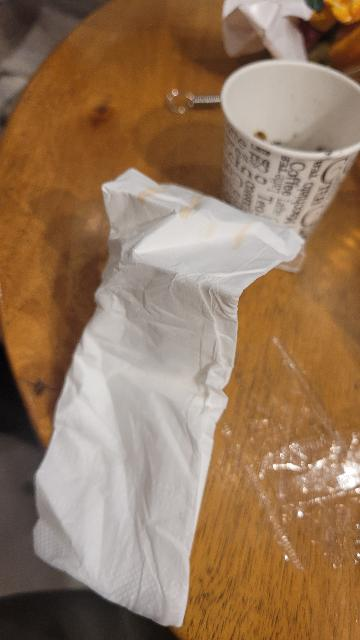Kagit: (38, 170, 305, 626), (225, 61, 360, 247)
